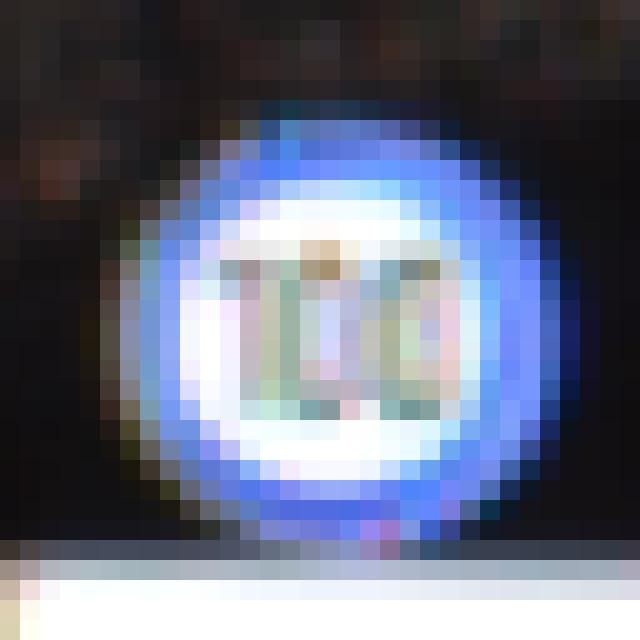SPEED LIMIT 100: (125, 131, 540, 539)
